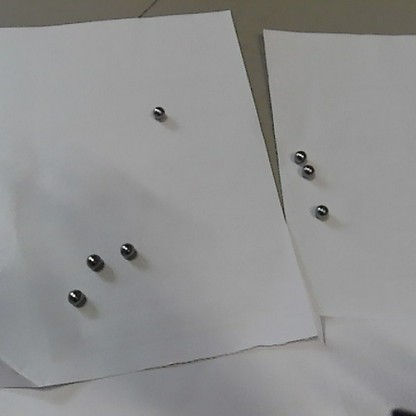ironball: (66, 288, 83, 303), (119, 242, 133, 258), (293, 150, 306, 162), (88, 254, 99, 267), (302, 164, 313, 177), (316, 204, 326, 217), (152, 106, 163, 117)
